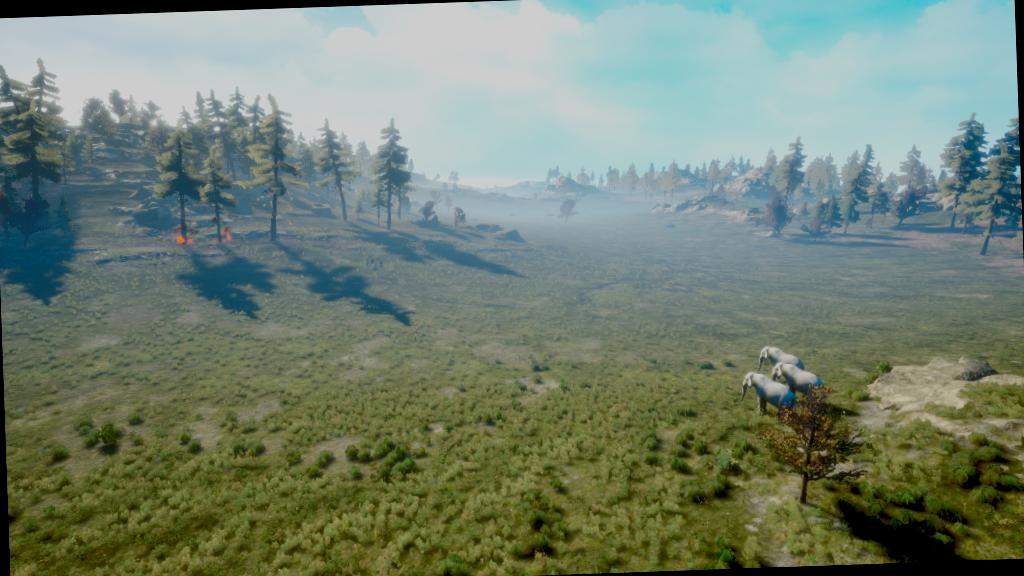Fire: (172, 221, 200, 248), (208, 224, 238, 248)
elephant: (733, 367, 801, 428), (766, 358, 834, 407), (752, 340, 809, 380)
